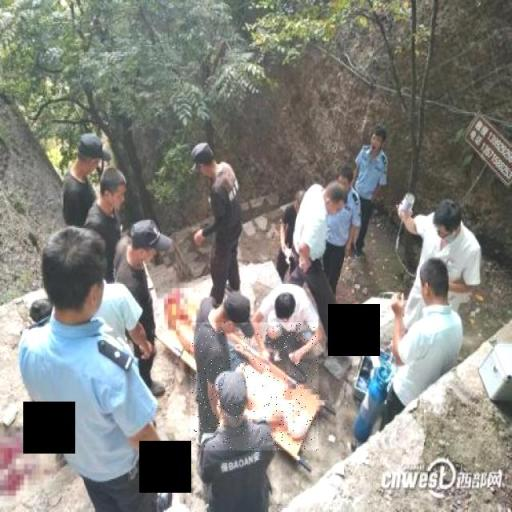Fall: (191, 323, 319, 451)
